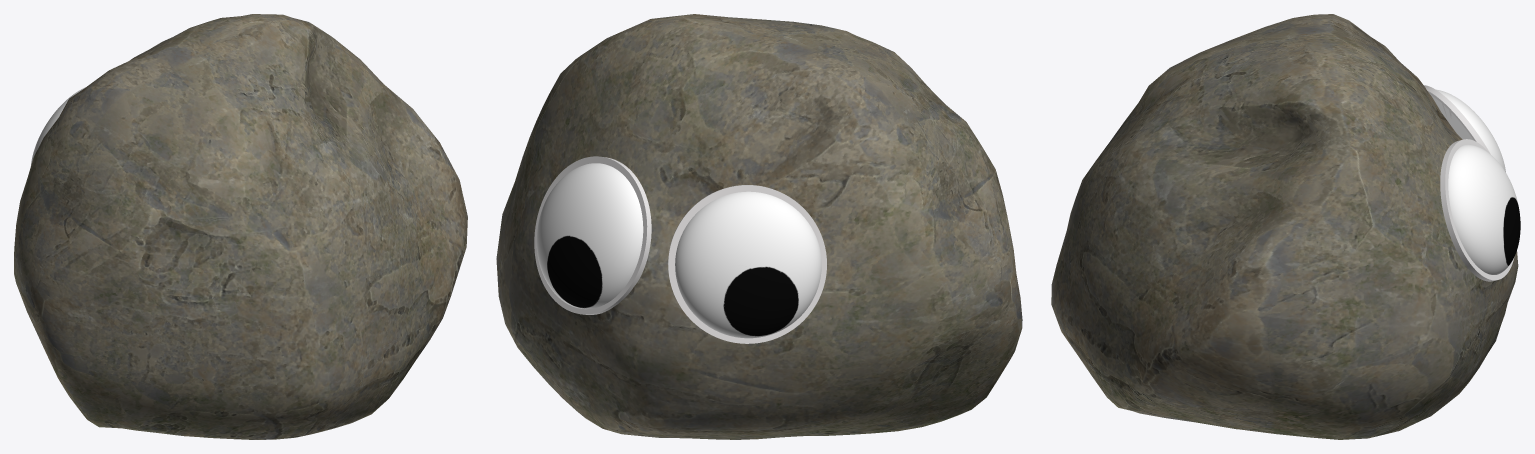
File: petRock.gltf
3 views of the same model, side by side, from view 1: azimuth 30°, elevation 25°; view 2: azimuth 150°, elevation 25°; view 3: azimuth 270°, elevation 25° (orthographic). The views are drawn at different scales.
Visible parts, largest first — view 1: node_id31_4; view 2: node_id31_4, node_id33_7, node_id36_8; view 3: node_id31_4, node_id36_8, node_id33_7.
Part boxes in pixels (<box>): node_id31_4: <box>14,14,467,439</box>; node_id31_4: <box>496,14,1022,439</box>; node_id33_7: <box>668,185,826,343</box>; node_id36_8: <box>534,156,651,314</box>; node_id31_4: <box>1051,14,1518,439</box>; node_id36_8: <box>1440,139,1520,281</box>; node_id33_7: <box>1424,85,1505,172</box>.
Size of the model in its own units: 1.91 by 1.49 by 1.8.
3 materials, 3 textured.
